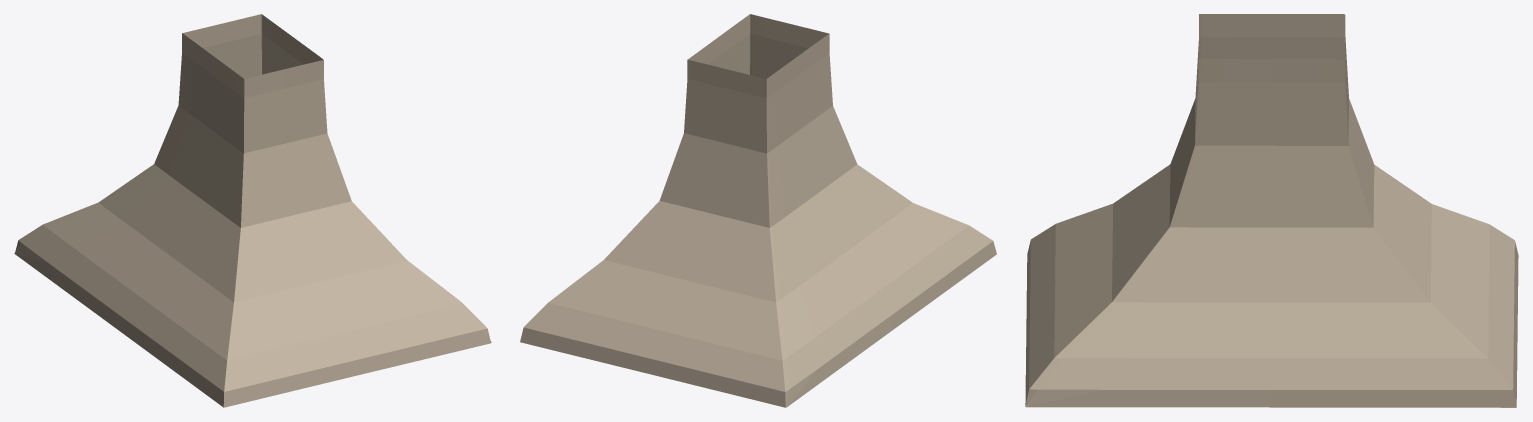
The model's file is 3dcodebench_RangeHood_seed0.glb.
3 views of the same model, side by side, from view 1: azimuth 30°, elevation 25°; view 2: azimuth 150°, elevation 25°; view 3: azimuth 270°, elevation 25° (orthographic). The views are drawn at different scales.
Parts seen in each view (by area): view 1: object; view 2: object; view 3: object.
Part boxes in pixels (x1=…): object: x1=14, y1=14, x2=491, y2=407; object: x1=520, y1=14, x2=996, y2=407; object: x1=1025, y1=14, x2=1518, y2=407.
Size of the model in its own units: 0.7778 by 0.7002 by 1.06.
